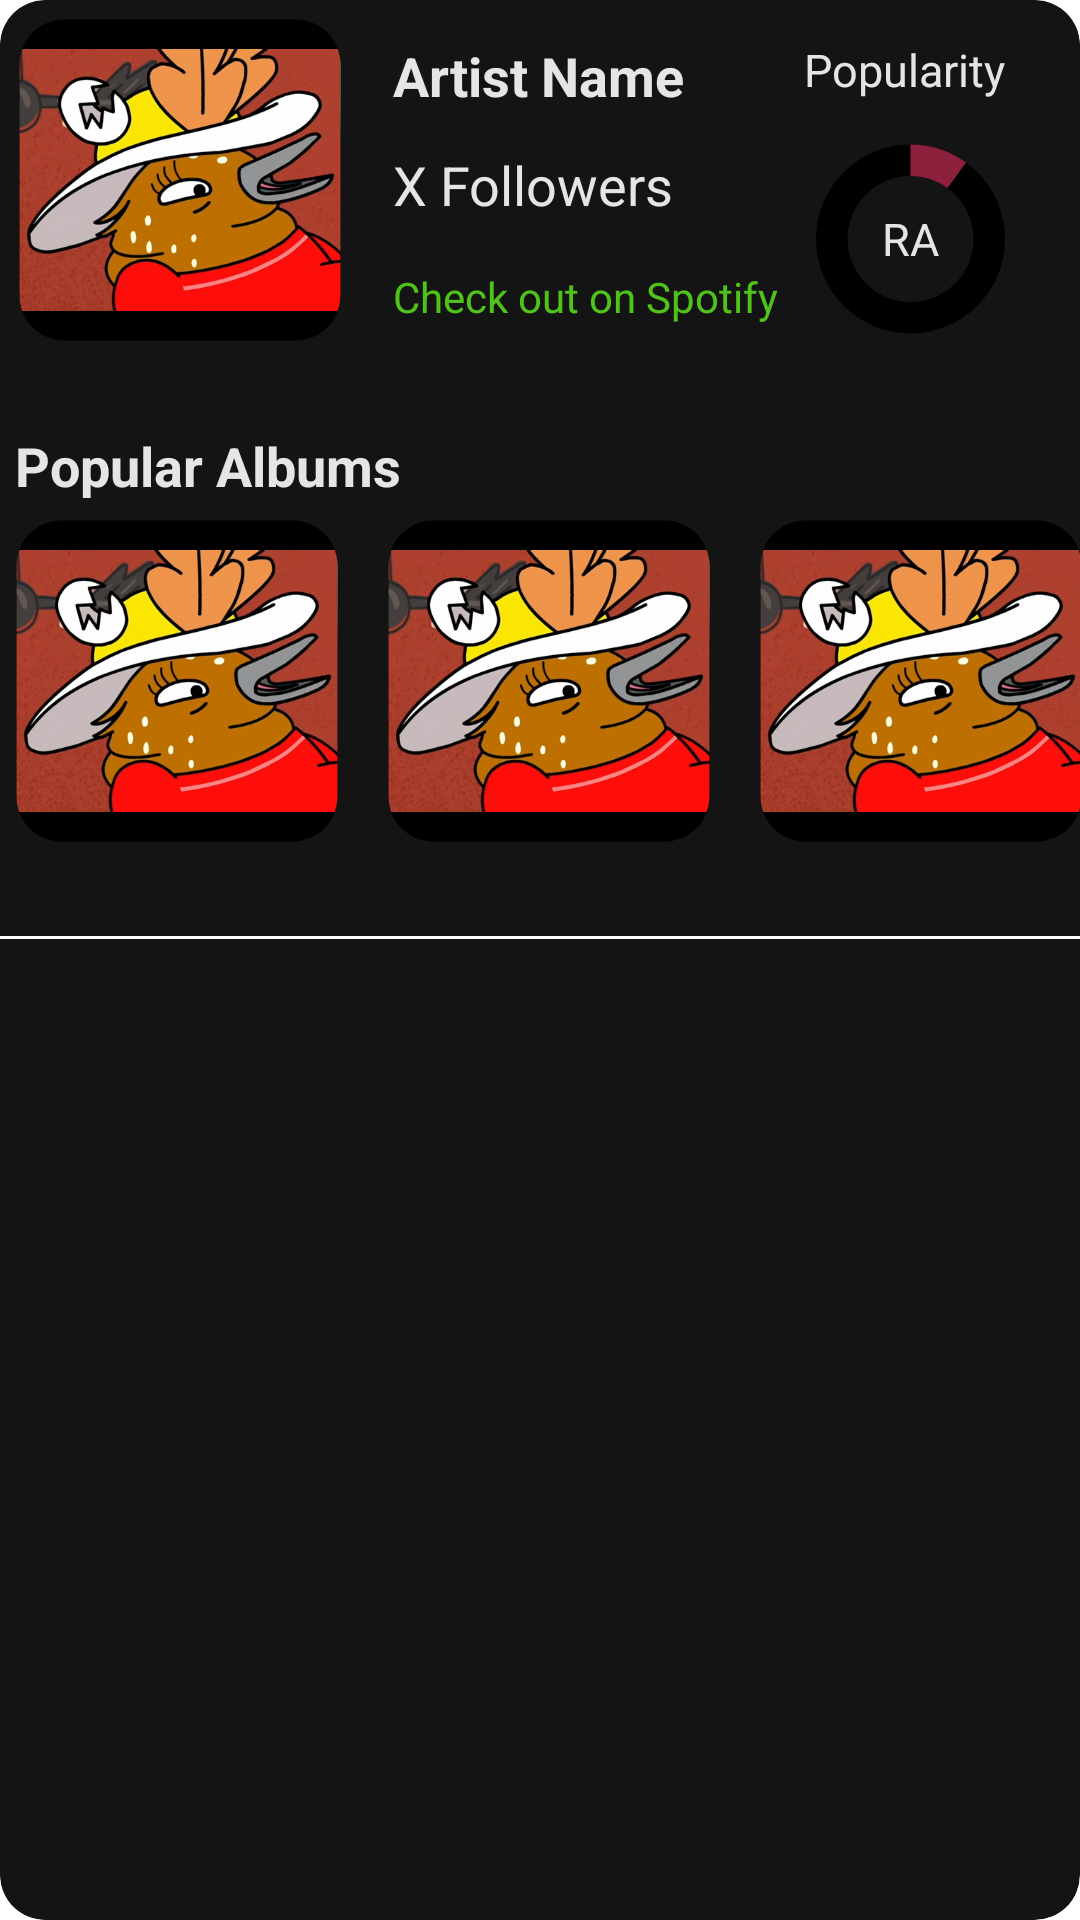

Icon click points for this 1080*1920 phone screenshot, format point (x, y):
bertie hat: point (180, 180), point (177, 681), point (549, 681), point (920, 681)
